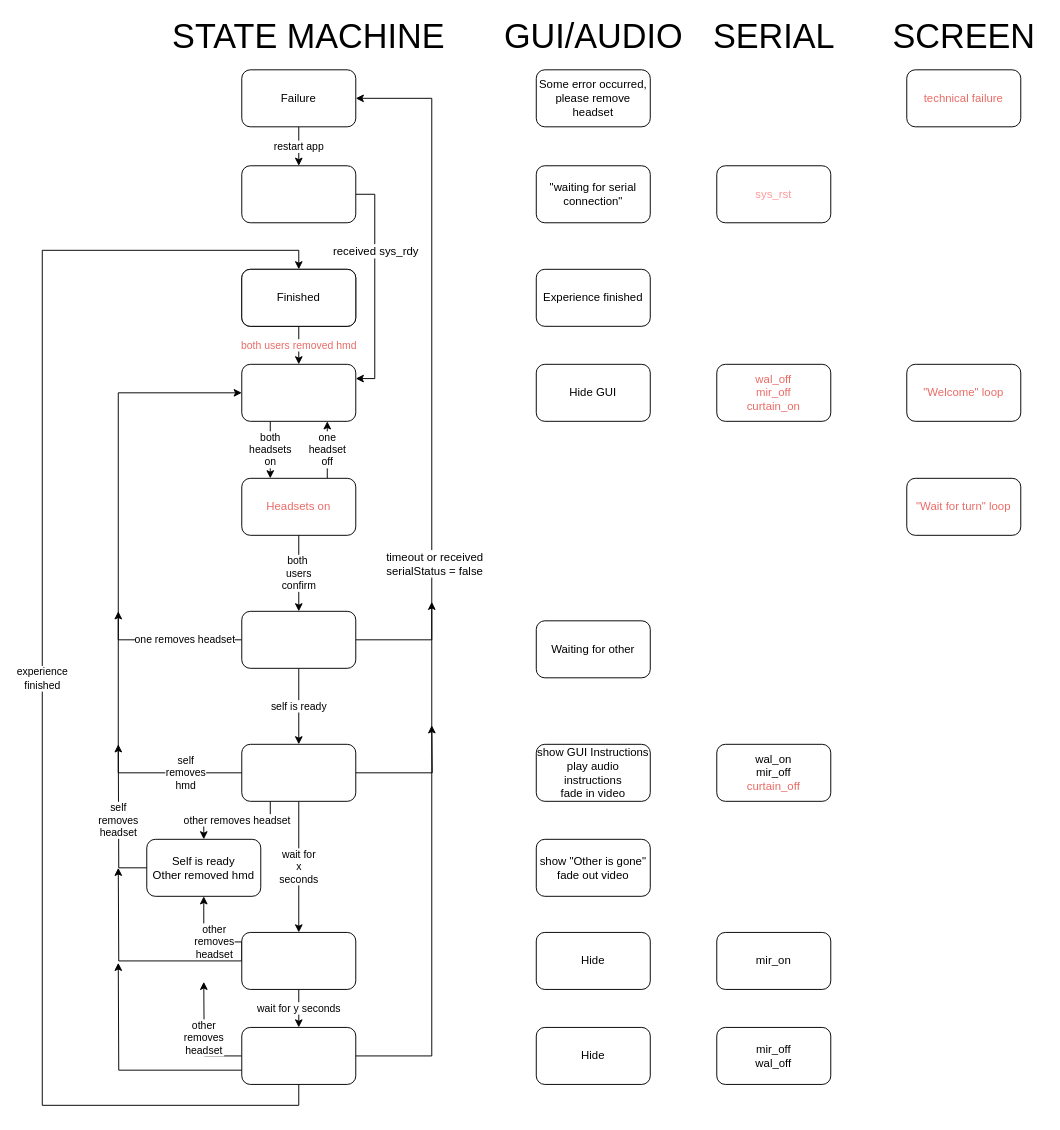
This 1060x1130 diagram has some shape labels left out. Here are the shapes that lost their labels. From the top down, the centre of each, then its label:
At (x=298, y=194): "App initial start".
At (x=298, y=392): "Standby".
At (x=298, y=639): "Users ready".
At (x=298, y=772): "Experience started".
At (x=298, y=960): "Ready for mirror".
At (x=298, y=1055): "Ready for wall".
